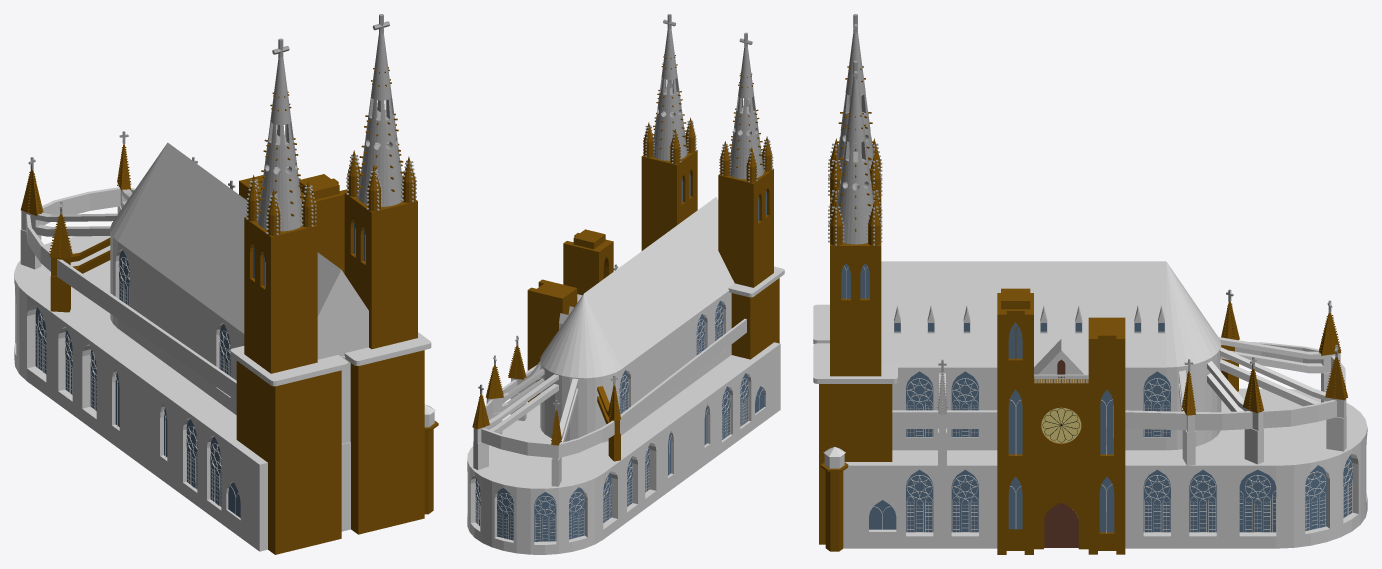
Rendered from Cathedral.fbx.
3 renders of one model, left to right at view 1: azimuth 30°, elevation 25°; view 2: azimuth 150°, elevation 25°; view 3: azimuth 270°, elevation 25°, orthographic. The views are drawn at different scales.
Parts seen in each view (by area): view 1: GroundFloorEnd, Tower.001 (×2), RoofEnd, Cube.017, Cube.016, FirstFloor, Cone (×2), Cube.020, Cube, Cube.014, Cube.006, Cube.015 (+7 smaller); view 2: GroundFloorEnd, RoofEnd, Tower.001 (×2), FirstFloor, Cone (×2), Cube.020, Cube.017, Tower.003, Cube, Cube.013, Plane.003, Cube.014 (+7 smaller); view 3: GroundFloorEnd, RoofEnd, FirstFloor, Cube, Tower.003, Tower.004, Tower.001, Cube.016, Cone (×2), Cube.020, Cube.013, Plane.018 (+23 smaller).
Boxes of the visible parts, x1,y1,x2,y2 form: GroundFloorEnd: (14, 236, 350, 551); Tower.001 (×2): (244, 192, 417, 373); RoofEnd: (110, 142, 368, 359); Cube.017: (236, 361, 341, 554); Cube.016: (350, 350, 424, 534); FirstFloor: (110, 231, 350, 443); Cone (×2): (257, 32, 402, 231); Cube.020: (26, 187, 236, 400); Cube: (299, 174, 347, 273); Cube.014: (20, 210, 117, 269); Cube.006: (230, 346, 348, 386); Cube.015: (50, 238, 110, 312); GroundFloorEnd: (467, 342, 780, 554); RoofEnd: (540, 197, 734, 378); Tower.001 (×2): (641, 150, 773, 287); FirstFloor: (540, 290, 731, 442); Cone (×2): (653, 28, 763, 179); Cube.020: (481, 318, 746, 457); Cube.017: (731, 278, 779, 359); Tower.003: (527, 279, 577, 402); Cube: (563, 229, 613, 295); Cube.013: (473, 374, 558, 469); Plane.003: (534, 492, 556, 541); Cube.014: (551, 378, 578, 486); GroundFloorEnd: (843, 388, 1367, 548); RoofEnd: (881, 261, 1221, 367); FirstFloor: (892, 345, 1221, 450); Cube: (997, 288, 1033, 554); Tower.003: (1088, 317, 1125, 554); Tower.004: (1034, 379, 1088, 549); Tower.001: (830, 227, 881, 376); Cube.016: (819, 384, 892, 544); Cone (×2): (837, 31, 873, 244); Cube.020: (1125, 342, 1345, 430); Cube.013: (1220, 347, 1346, 451); Plane.018: (1239, 469, 1276, 532).
Size of the model in its own units: 2169 by 5703 by 6062.
